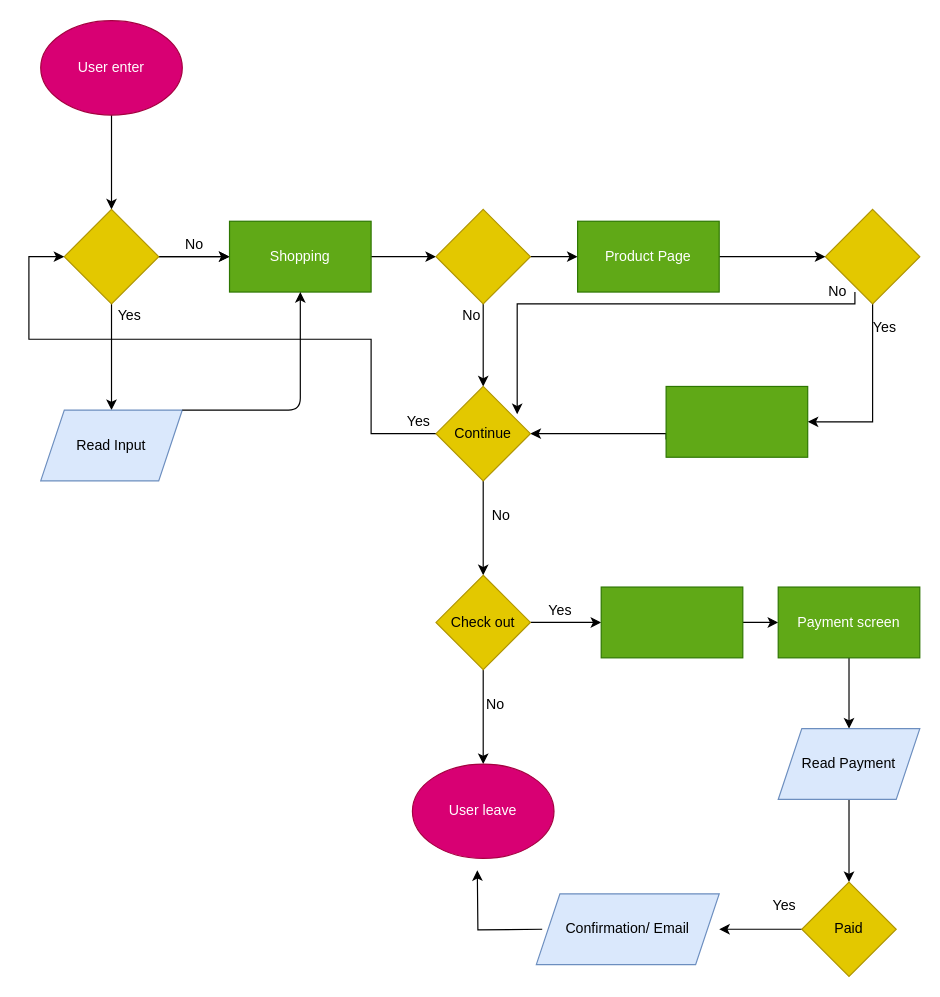
Image size: 940x997. Some labels were removed from this diagram. The shapes that lost their labels are listed below. From the top down, each one's box as (x1, y1, x2, y2) in pixels, then its label:
(63, 208, 159, 304): Search
(435, 208, 530, 304): View Specific
(824, 208, 920, 304): add to cart
(665, 385, 808, 457): Confirmation
(600, 586, 743, 658): Cart Screen
